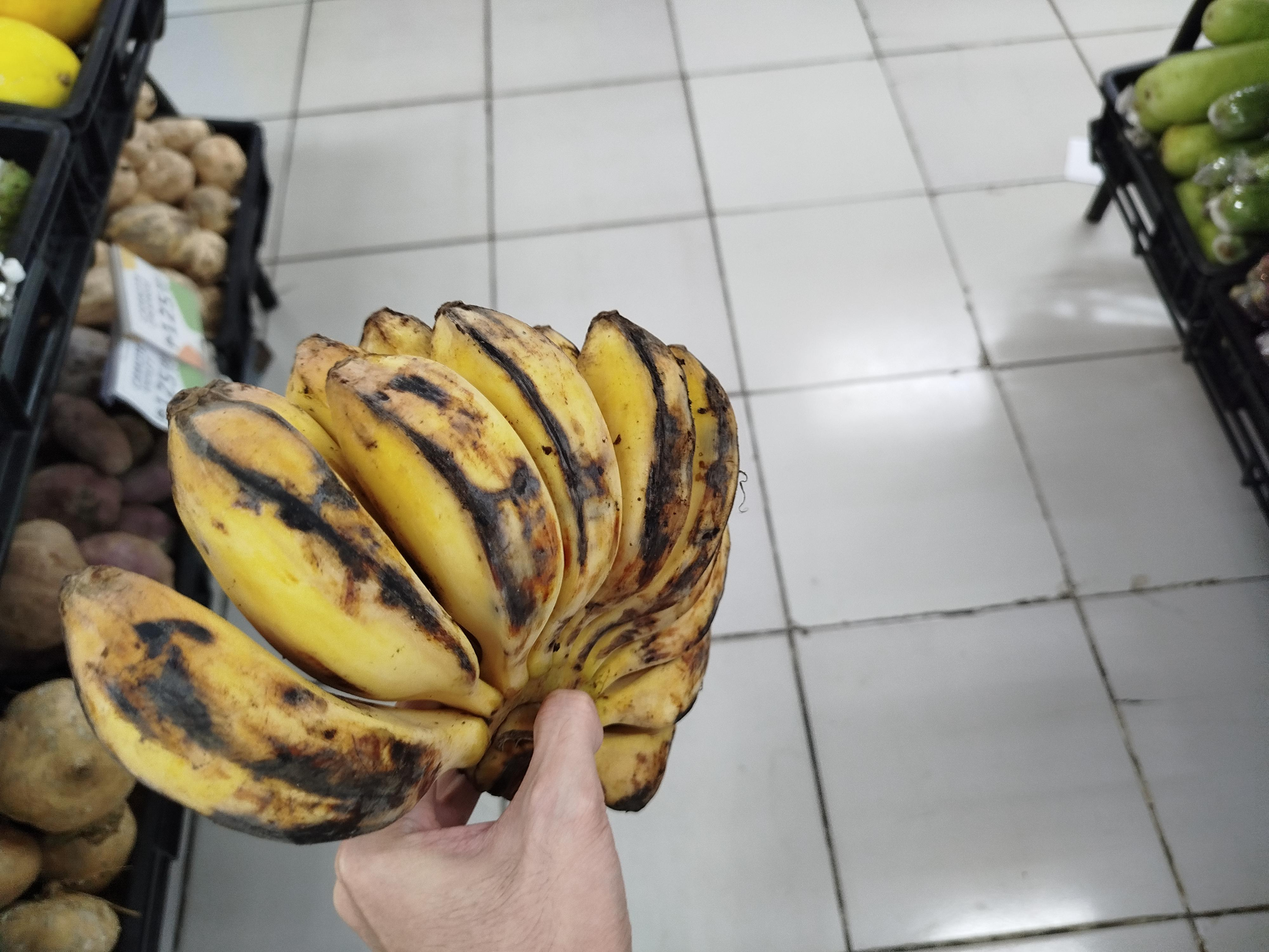ripe: (61, 302, 739, 843)
